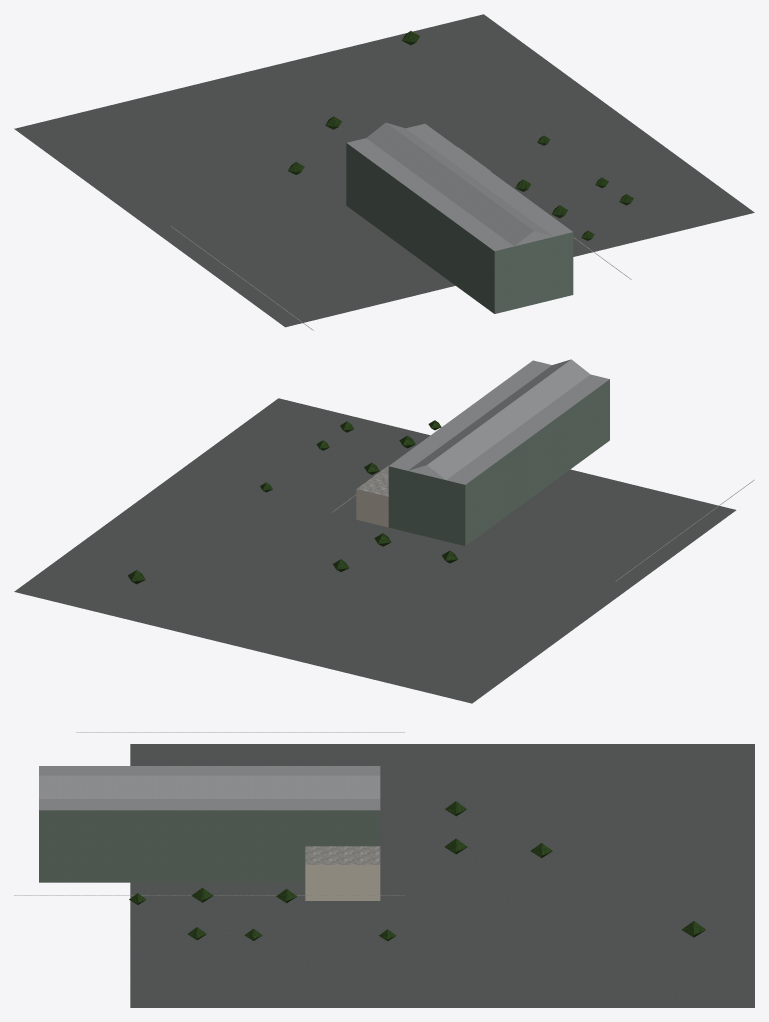
Rendered from cidade_S07_05_lod.gltf.
3 views of the same model, one above another, from view 1: azimuth 30°, elevation 25°; view 2: azimuth 150°, elevation 25°; view 3: azimuth 270°, elevation 25° (orthographic). The views are drawn at different scales.
Visible parts, largest first — view 1: S07_05_Chao_LOD2, S07_05_Edificios_LOD1, S07_05_Silhueta_LOD2, S07_05_Vegetacao_LOD2; view 2: S07_05_Chao_LOD2, S07_05_Edificios_LOD1, S07_05_Silhueta_LOD2, S07_05_Vegetacao_LOD2; view 3: S07_05_Chao_LOD2, S07_05_Edificios_LOD1, S07_05_Silhueta_LOD2, S07_05_Vegetacao_LOD2.
Part boxes in pixels (x1,y1,x2,y2): S07_05_Chao_LOD2: [14, 14, 754, 327]; S07_05_Edificios_LOD1: [171, 122, 631, 330]; S07_05_Silhueta_LOD2: [346, 123, 573, 313]; S07_05_Vegetacao_LOD2: [288, 31, 633, 240]; S07_05_Chao_LOD2: [14, 398, 736, 703]; S07_05_Edificios_LOD1: [332, 359, 754, 581]; S07_05_Silhueta_LOD2: [388, 360, 609, 545]; S07_05_Vegetacao_LOD2: [128, 420, 458, 584]; S07_05_Chao_LOD2: [130, 744, 754, 1007]; S07_05_Edificios_LOD1: [14, 732, 404, 900]; S07_05_Silhueta_LOD2: [39, 766, 380, 882]; S07_05_Vegetacao_LOD2: [129, 801, 705, 941].
Size of the model in its own units: 100 by 15.15 by 119.
7 materials, 7 textured.
